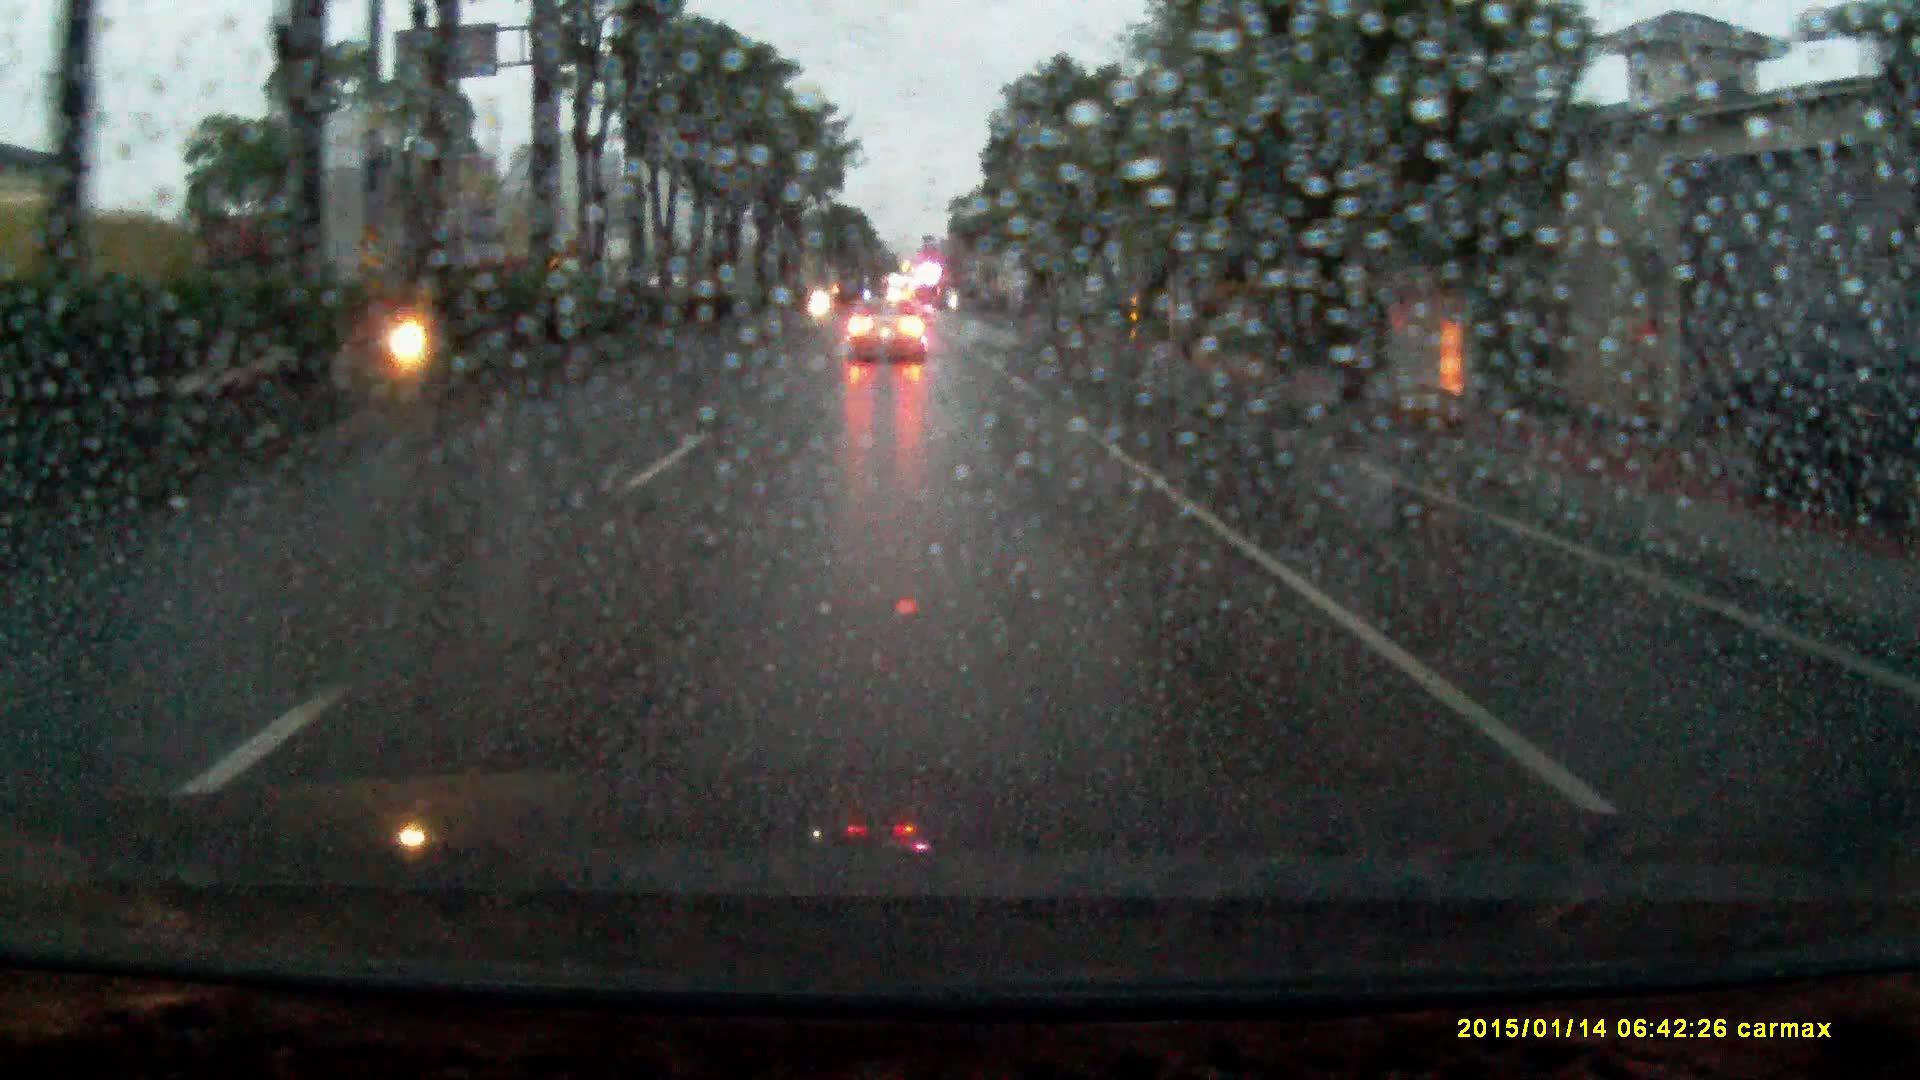vehicle: (1689, 315, 1915, 531), (11, 204, 222, 384), (847, 305, 928, 371)
